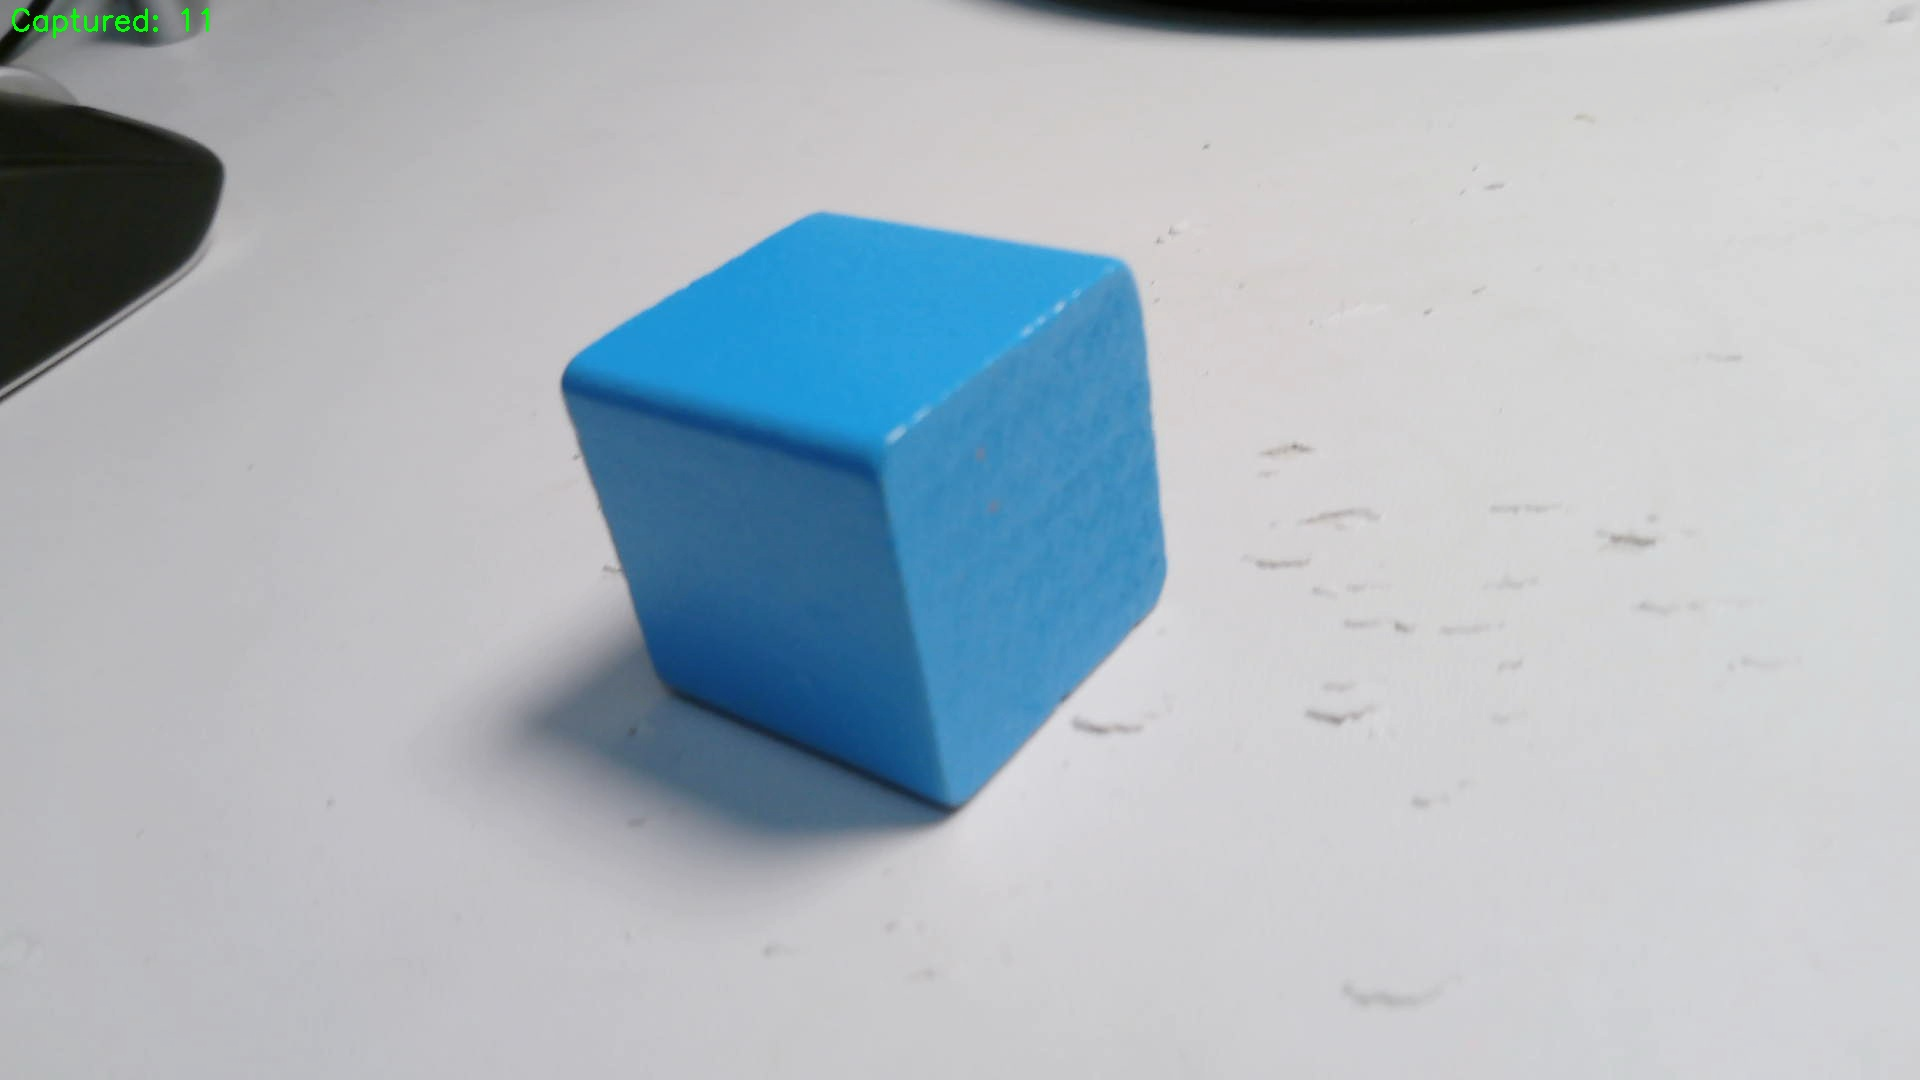blue: (563, 208, 1168, 816)
